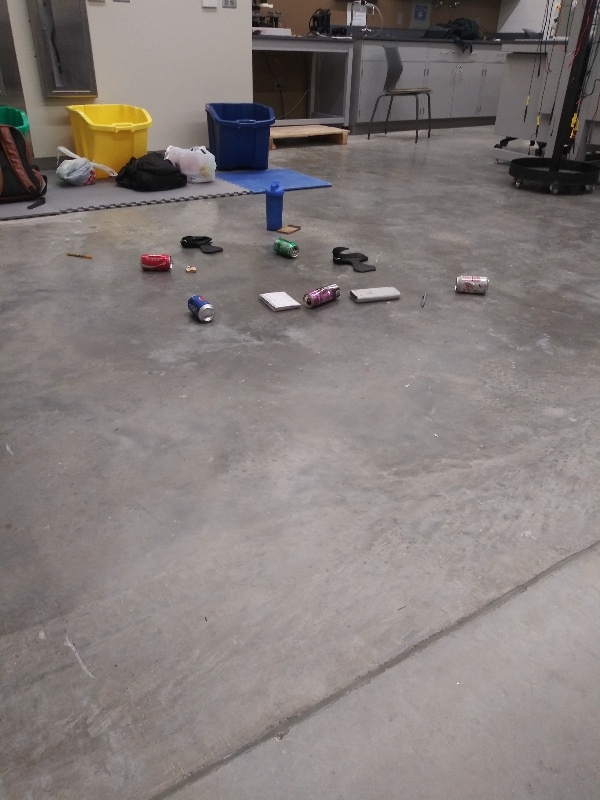can: (300, 280, 343, 314), (452, 270, 491, 299), (135, 249, 176, 273), (185, 292, 215, 323), (267, 237, 300, 263)
